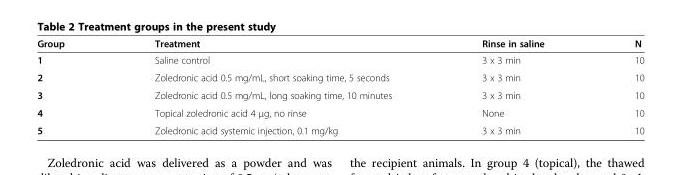table: (36, 37, 643, 135)
table column: (108, 37, 436, 135), (436, 37, 588, 135), (36, 37, 108, 135), (588, 37, 643, 135)
table column header: (36, 37, 643, 51)
table row: (36, 85, 643, 103), (36, 103, 643, 121), (36, 51, 643, 68), (36, 68, 643, 85), (36, 37, 643, 51), (36, 121, 643, 135)
